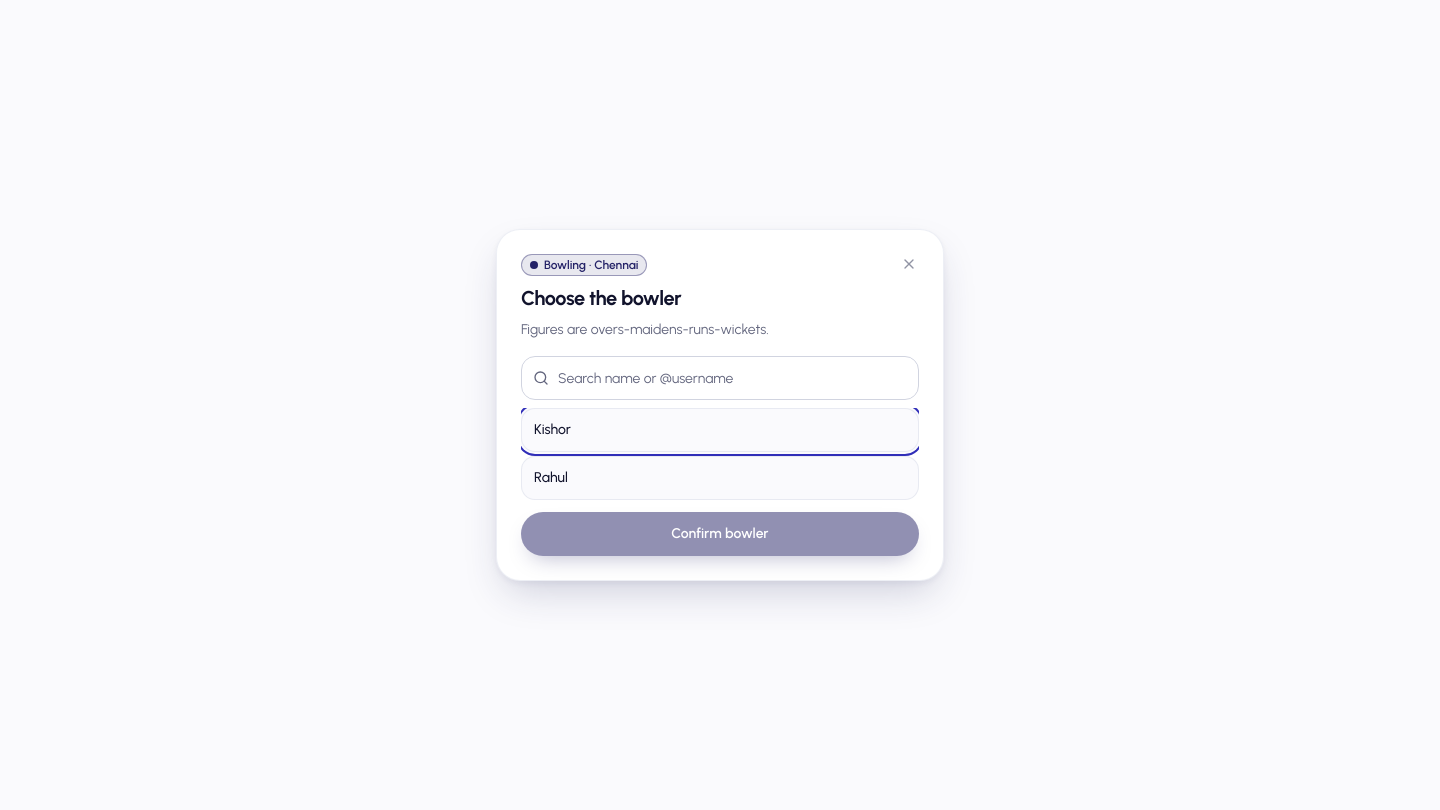
Test: BowlerDialog › disables adding players with a reason while offline
Type "Ashwin" into the search field at coordinates (720, 378), box top-left (521, 356), bottom-right (919, 400)
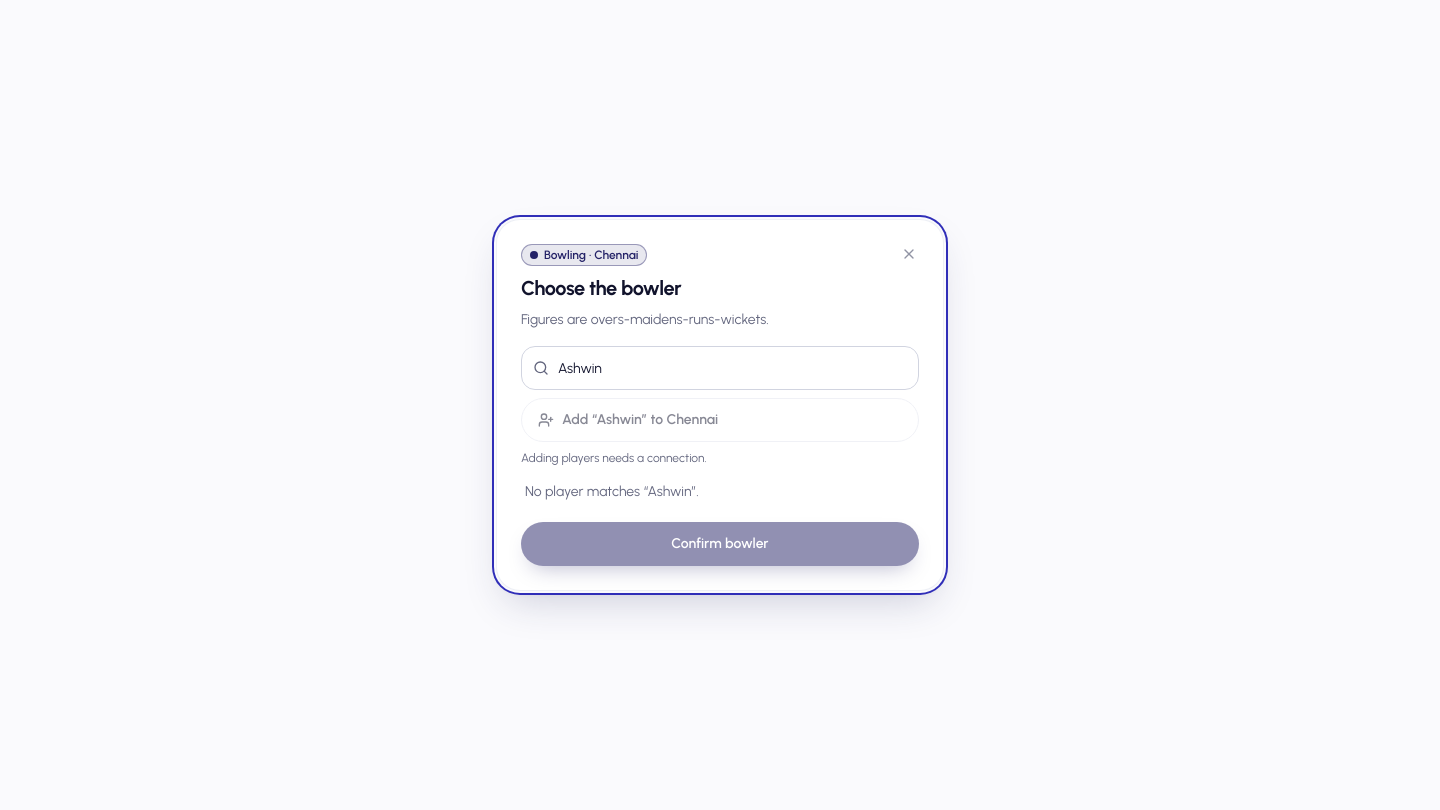
Result: the button "Add “Ashwin” to Chennai" is disabled at top-left (521, 398), bottom-right (919, 442)
Result: the text "Adding players needs a connection." is shown at top-left (521, 451), bottom-right (707, 465)
